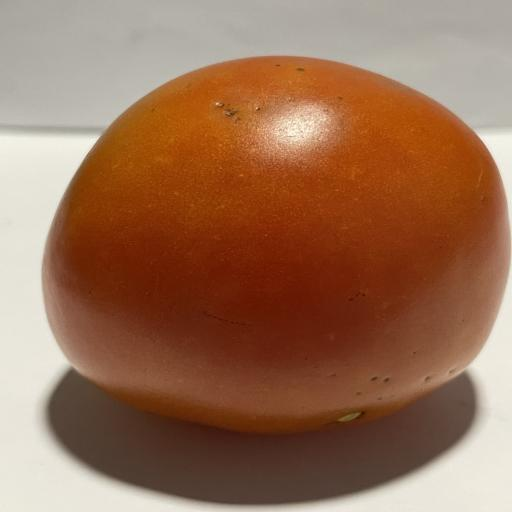ripe: (43, 56, 510, 433)
